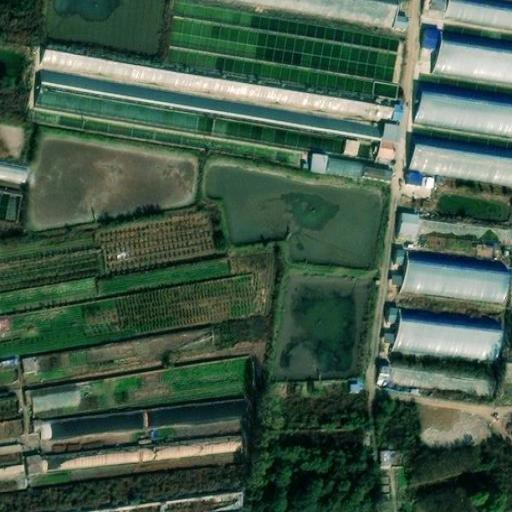building: (27, 391, 251, 443), (26, 383, 81, 412), (374, 122, 398, 165), (0, 187, 25, 222), (0, 158, 30, 181), (395, 211, 419, 235), (27, 448, 49, 472), (375, 447, 400, 468), (0, 455, 26, 475), (404, 168, 430, 188), (20, 352, 41, 373), (419, 28, 441, 48), (376, 365, 394, 388), (422, 0, 445, 9), (0, 316, 3, 332)
